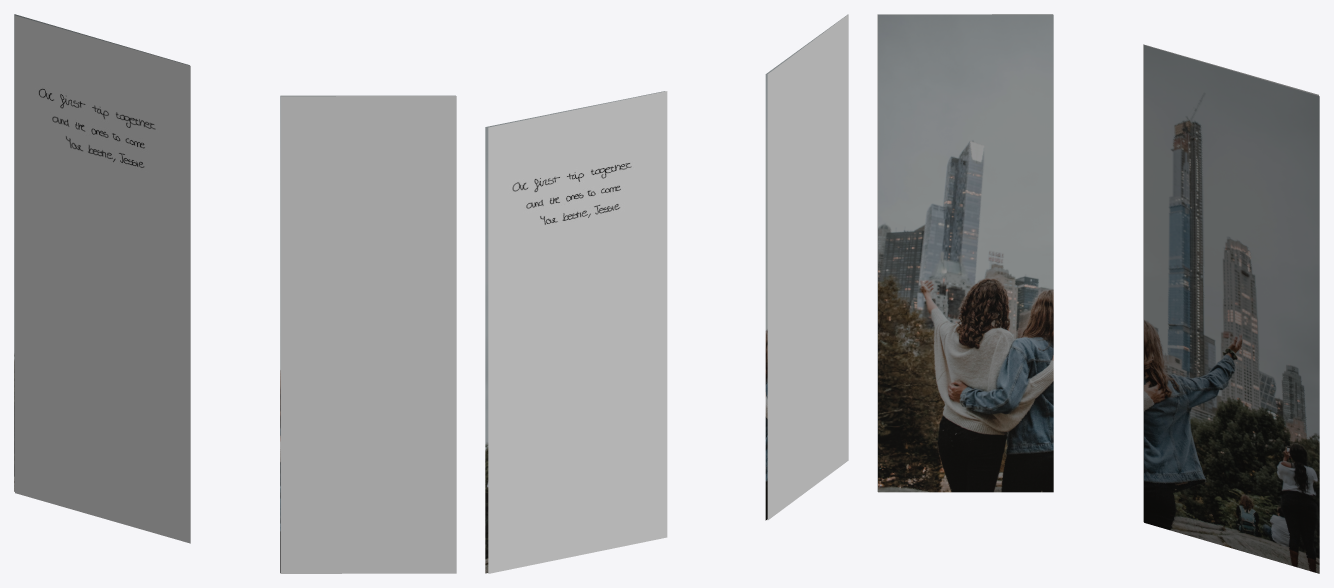
File: Postcard4.fbx
3 views of the same model, side by side, from view 1: azimuth 90°, elevation 25°; view 2: azimuth 150°, elevation 25°; view 3: azimuth 270°, elevation 25° (orthographic). The views are drawn at different scales.
Parts seen in each view (by area): view 1: Postal1; view 2: Postal1; view 3: Postal1.
Part boxes in pixels (bbox=[...]): Postal1: bbox=[14, 14, 456, 573]; Postal1: bbox=[485, 14, 848, 573]; Postal1: bbox=[877, 14, 1319, 573].
Size of the model in its own units: 36.96 by 100 by 83.96.
